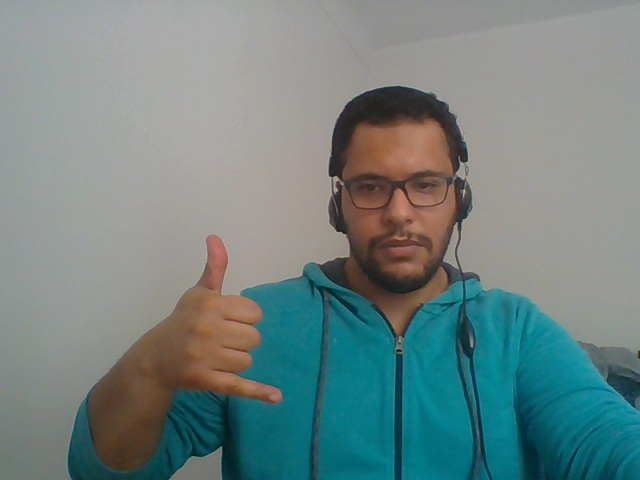callme: (87, 207, 297, 465)
